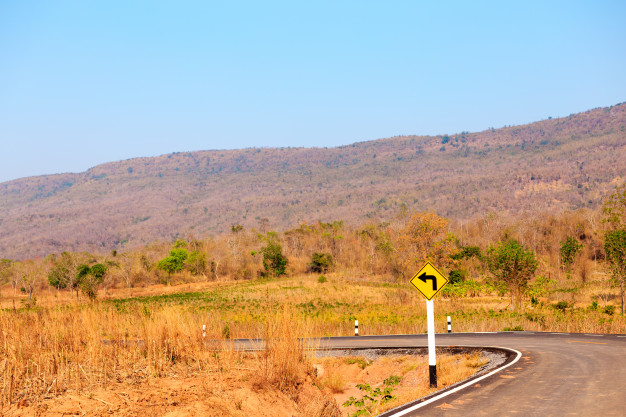left: (407, 260, 451, 303)
